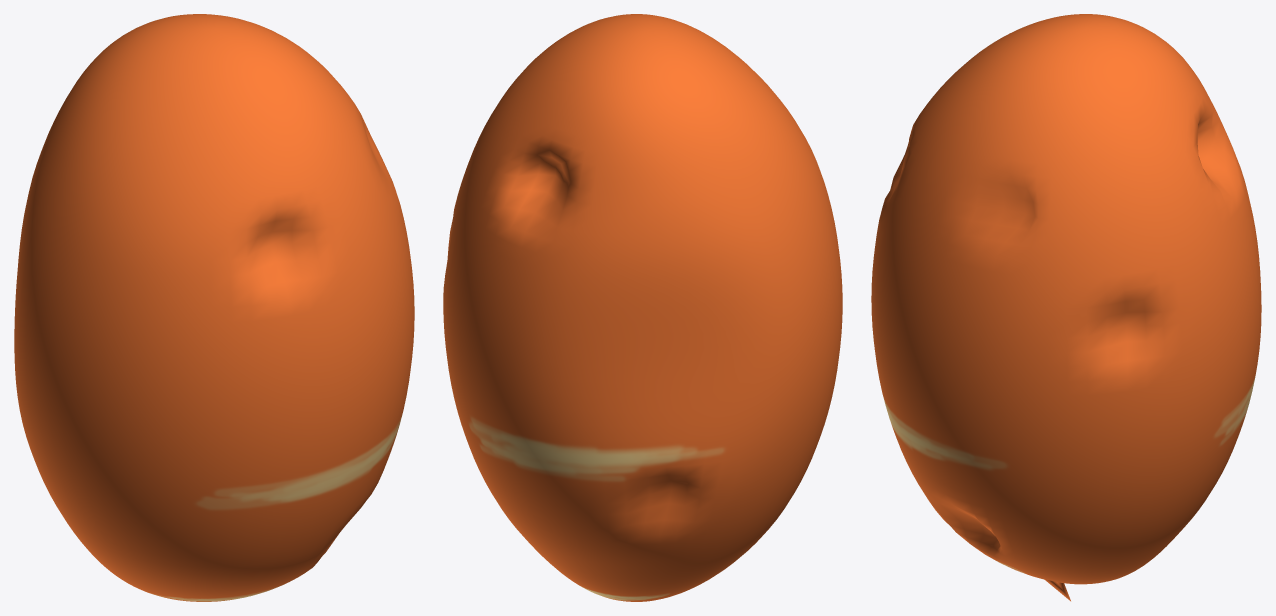
Rendered from zyagaimo2.fbx.
3 renders of one model, left to right at view 1: azimuth 30°, elevation 25°; view 2: azimuth 150°, elevation 25°; view 3: azimuth 270°, elevation 25°, orthographic. The views are drawn at different scales.
Parts seen in each view (by area): view 1: zyagaimo2; view 2: zyagaimo2; view 3: zyagaimo2.
Part boxes in pixels (<box>): zyagaimo2: <box>14,14,414,601</box>; zyagaimo2: <box>443,14,842,601</box>; zyagaimo2: <box>871,14,1261,601</box>.
Bounding box in the file's own units: 11.68 × 18.02 × 11.64.
